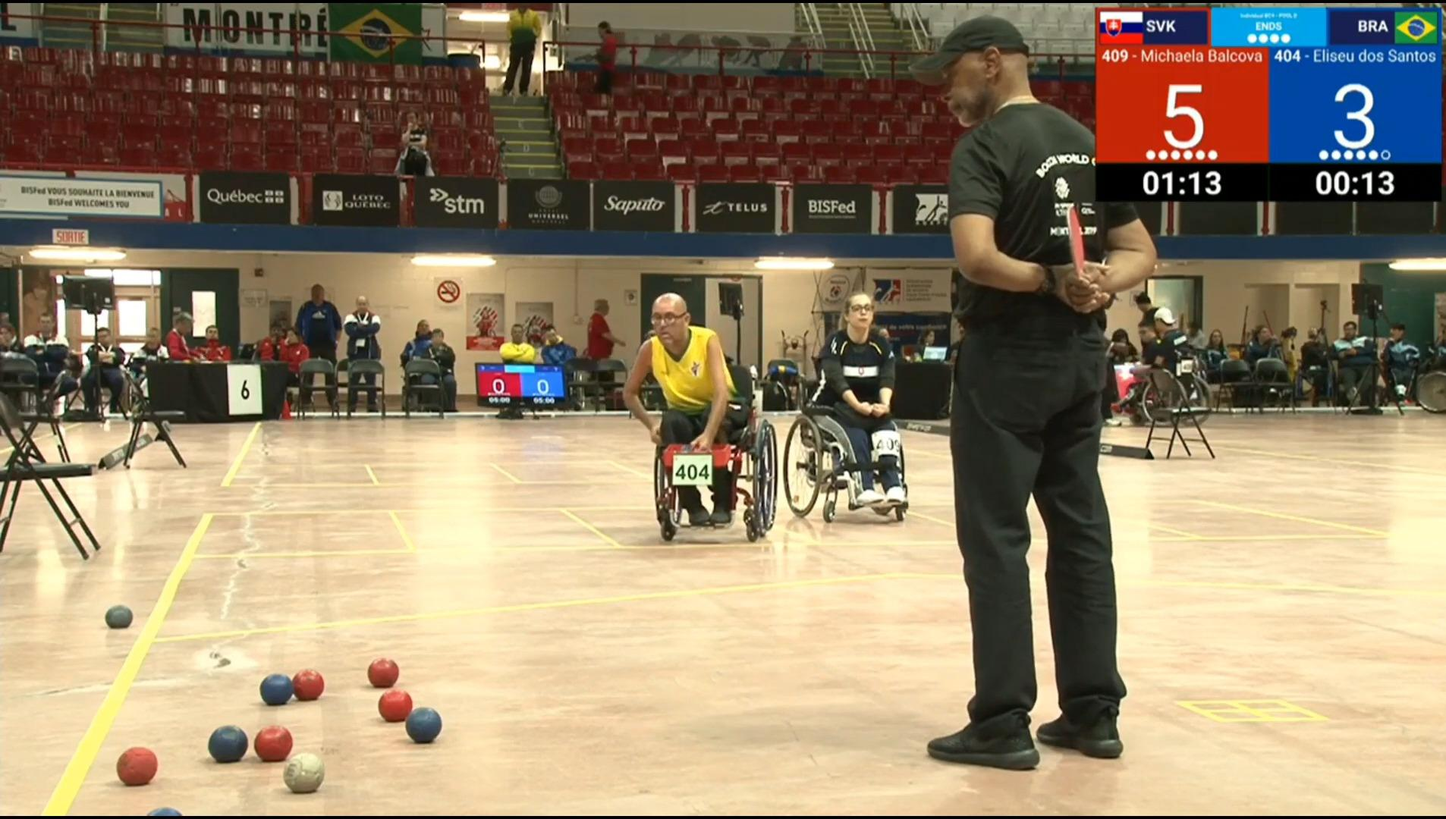blue_ball: (206, 721, 250, 765), (403, 705, 446, 745), (256, 671, 294, 708)
red_ball: (114, 745, 159, 789), (250, 722, 294, 765), (375, 686, 415, 724), (290, 666, 326, 705), (364, 655, 402, 690)
white_ball: (282, 751, 329, 797)
